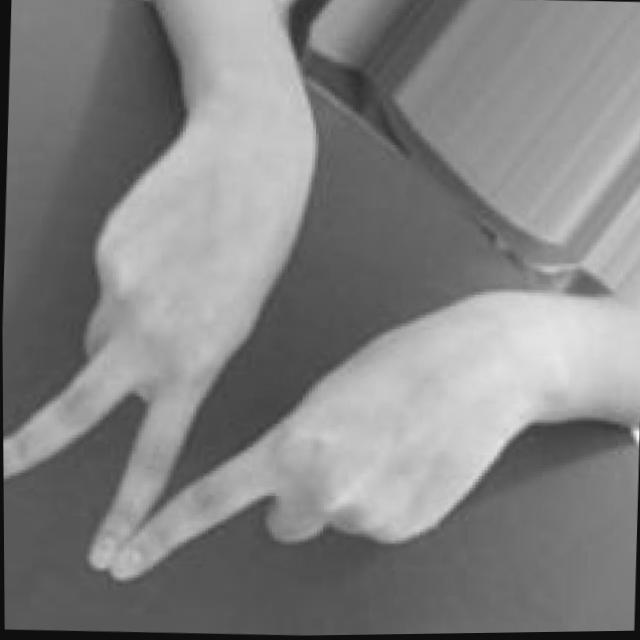N: (1, 101, 545, 601)
